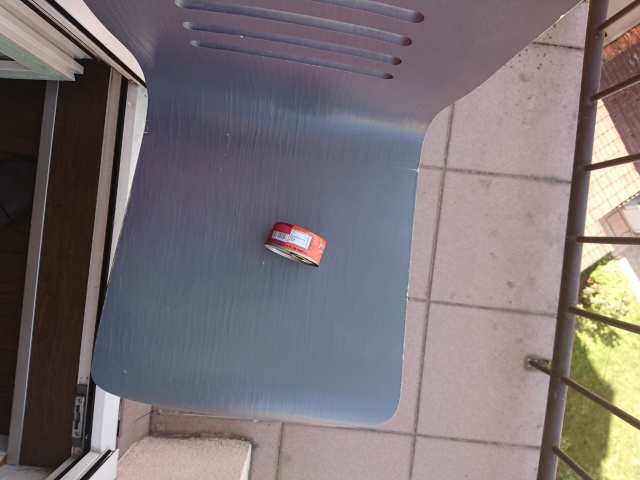Gavrilovic Pork Liver Pate 100g: (261, 219, 328, 268)
